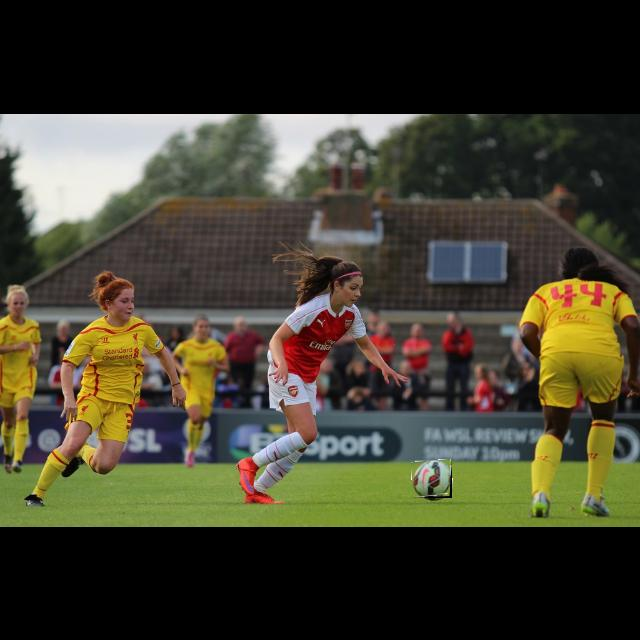Football: (412, 460, 452, 498)
